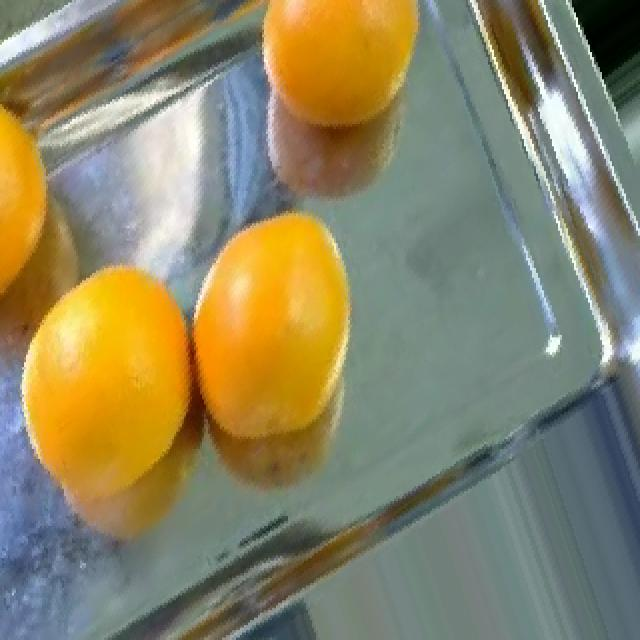Good_Orange: (22, 268, 190, 499), (192, 213, 352, 437)
